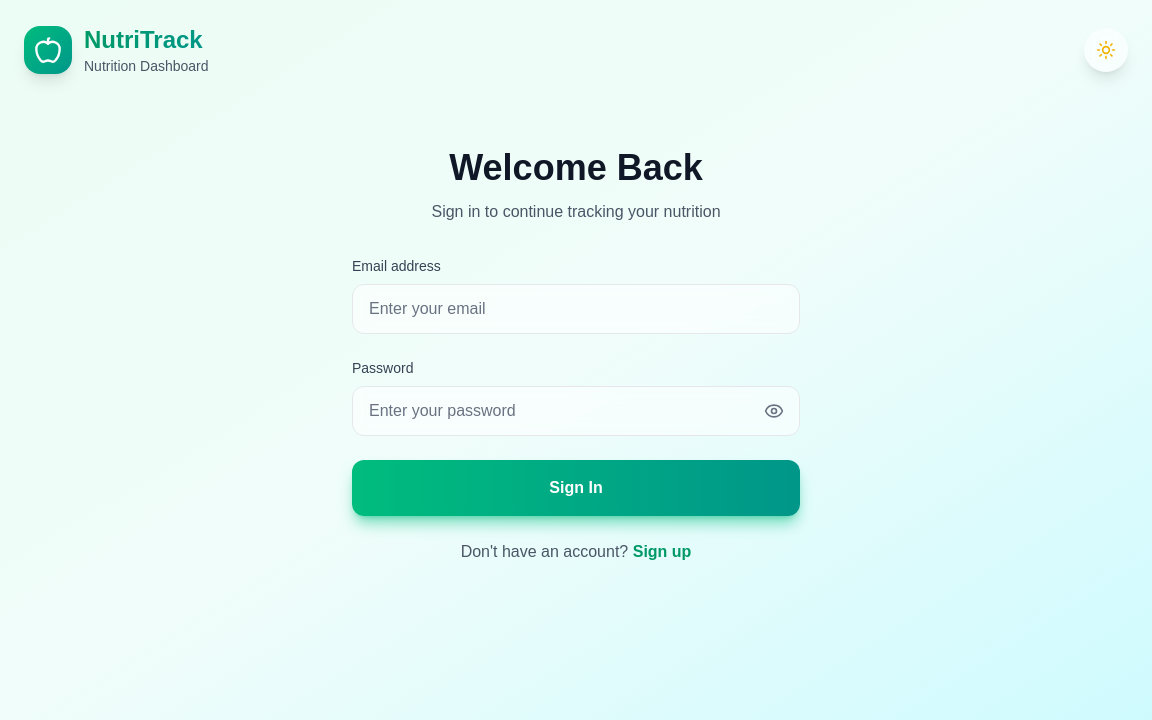
Test case: Login Page › Form Validation › should show error for empty email
Type "password123" into the password field named "password" at (576, 411), box [352, 386, 800, 436]
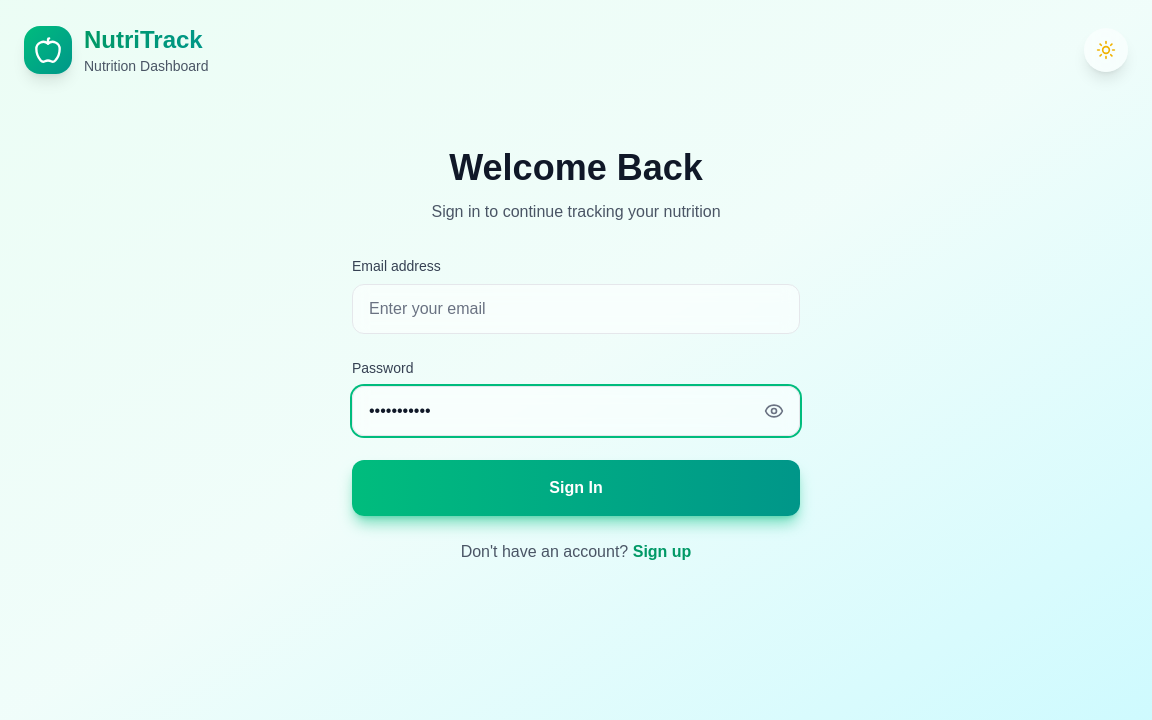
Click the button "Sign In" at (576, 488), box [352, 460, 800, 516]
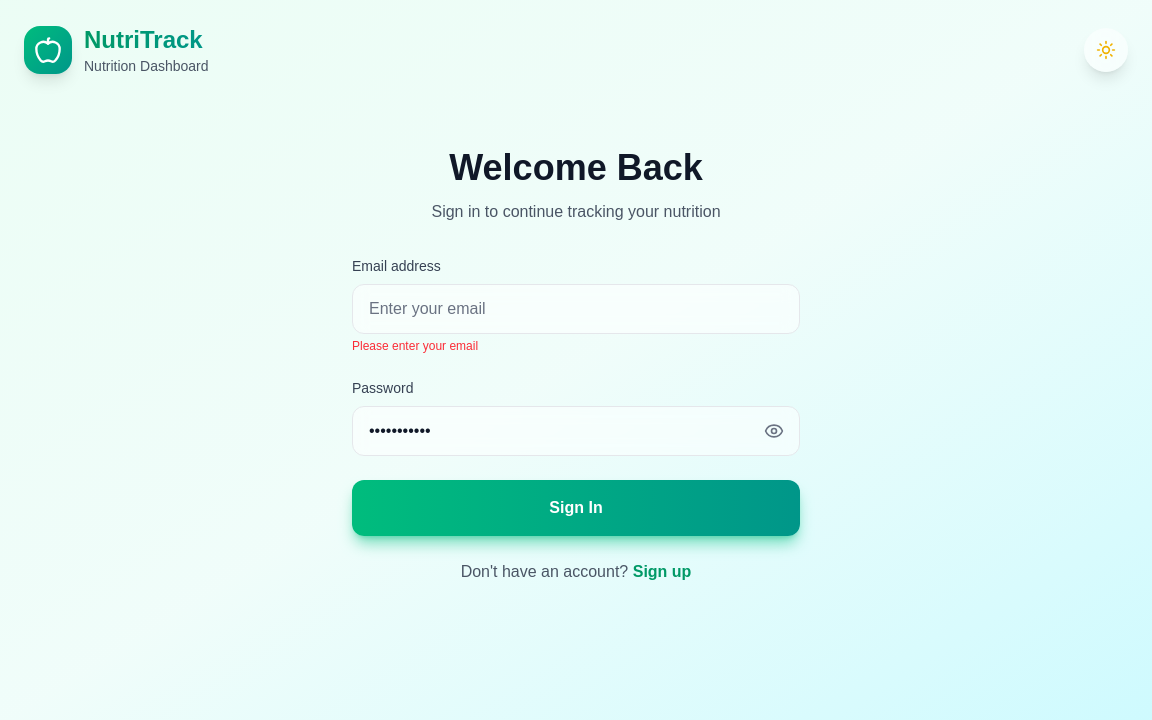
expect the text "Please enter your email" is shown: met, box [352, 339, 478, 353]
